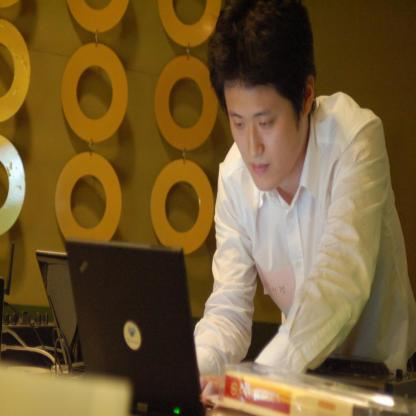board: (65, 239, 197, 410), (33, 252, 86, 372)
